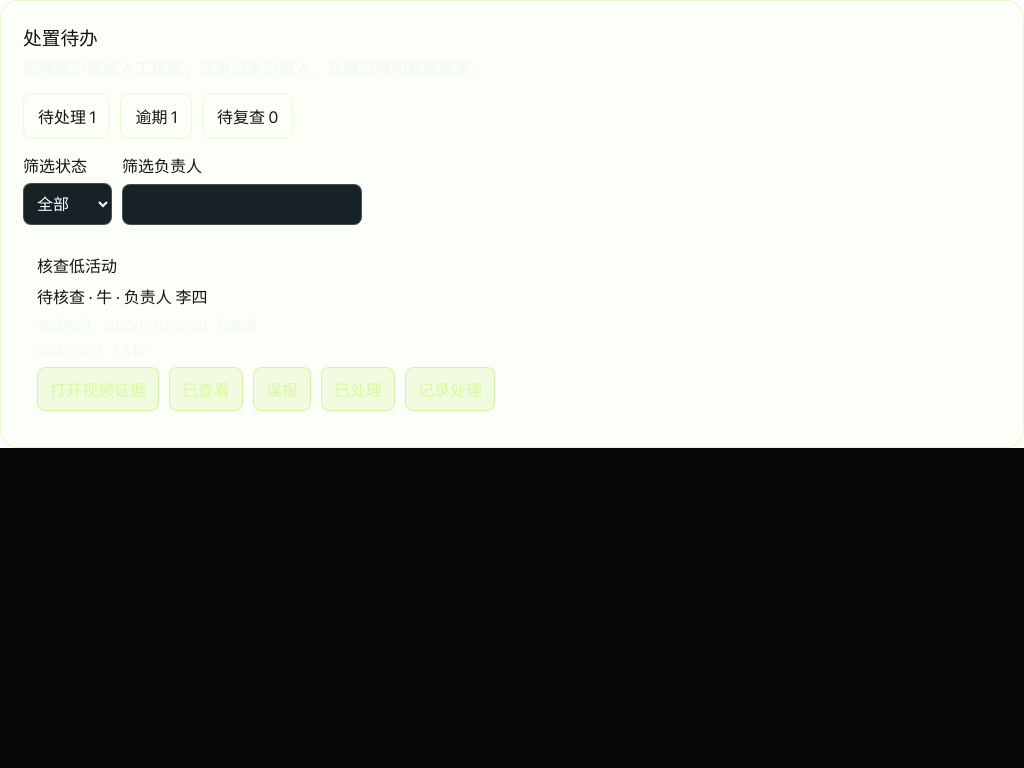
prefills a false alert conclusion for phone handling
The width and height of the screenshot is (1024, 768).
Later steps or results of the test are not shown.
expect the text "核查低活动" is shown: met, box [37, 256, 117, 276]
Click the button "误报" at [282, 389], box [253, 367, 311, 411]
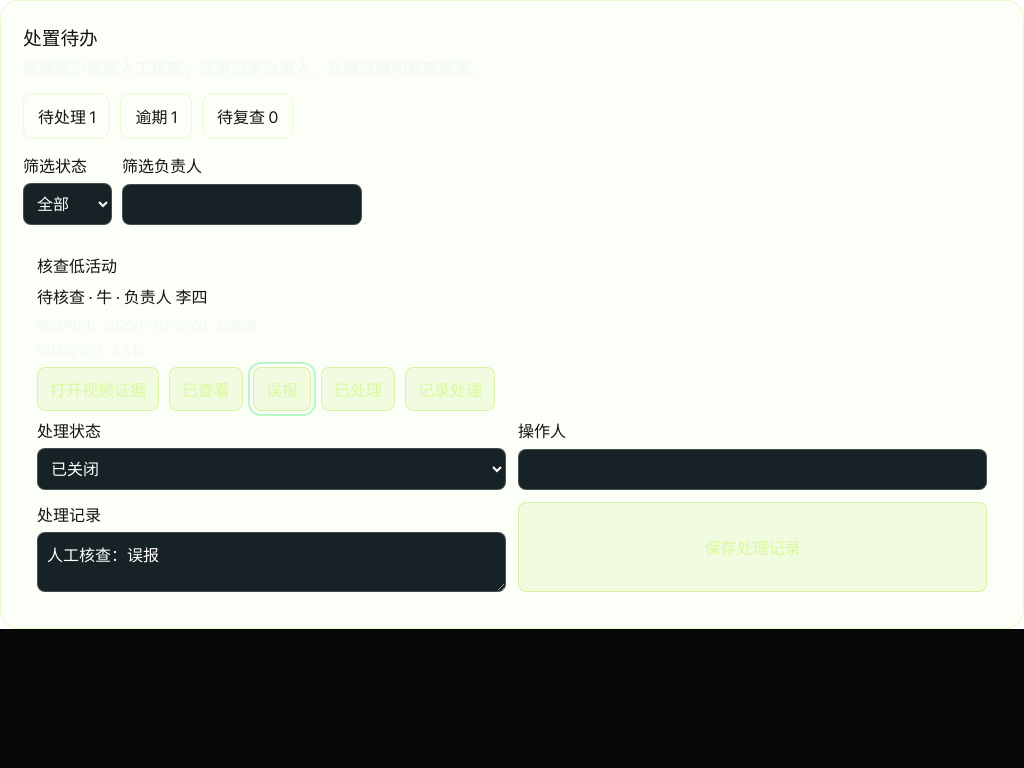
expect the dropdown labelled "处理状态" shows "已关闭": met, box [37, 448, 506, 490]
expect the text box labelled "处理记录" holds "人工核查：误报": met, box [37, 532, 506, 592]
